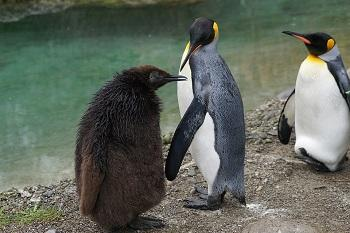king: (166, 11, 260, 220), (273, 15, 350, 187)
